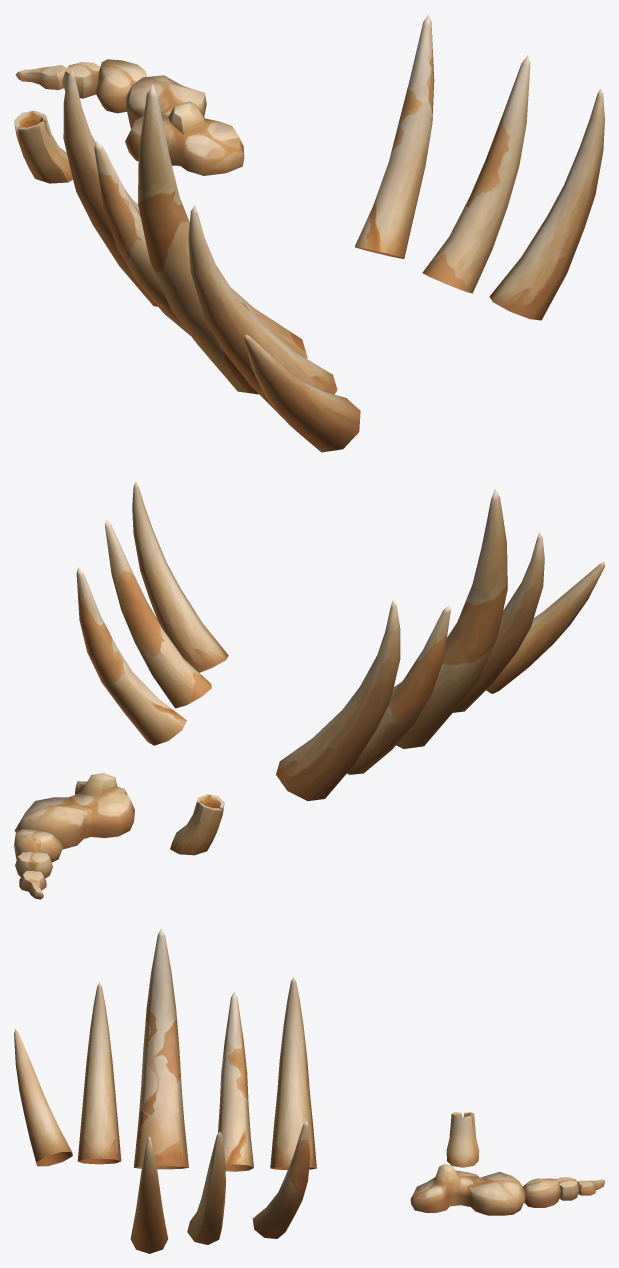
Rendered from Stage_ShaMo_GuTou01.FBX.
3 views of the same model, one above another, from view 1: azimuth 30°, elevation 25°; view 2: azimuth 150°, elevation 25°; view 3: azimuth 270°, elevation 25° (orthographic). The views are drawn at different scales.
Parts seen in each view (by area): view 1: Stage_ShaMo_GuTou01; view 2: Stage_ShaMo_GuTou01; view 3: Stage_ShaMo_GuTou01.
Boxes of the visible parts, box(x1,y1,x2,y2) form: Stage_ShaMo_GuTou01: box(14, 14, 604, 452); Stage_ShaMo_GuTou01: box(14, 482, 604, 899); Stage_ShaMo_GuTou01: box(14, 928, 604, 1253).
Size of the model in its own units: 1136 by 773 by 1930.
